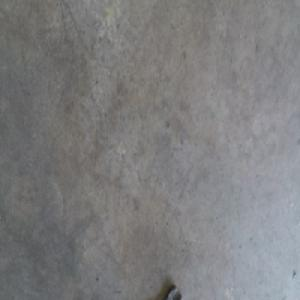Wrench: (165, 285, 182, 299)
